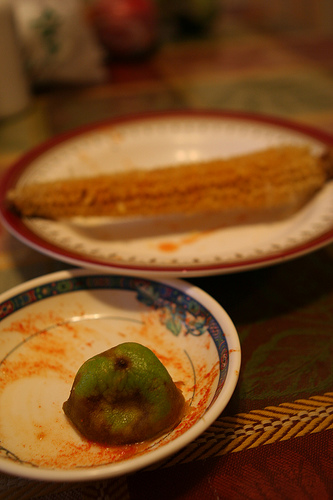corn: (8, 145, 320, 221)
